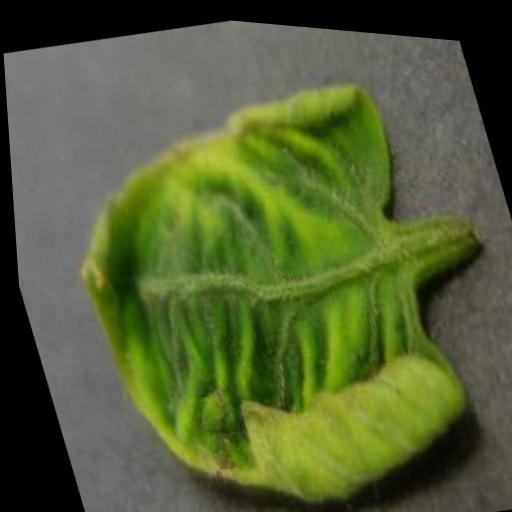Yellow Leaf Curl Virus: (29, 44, 490, 512)
